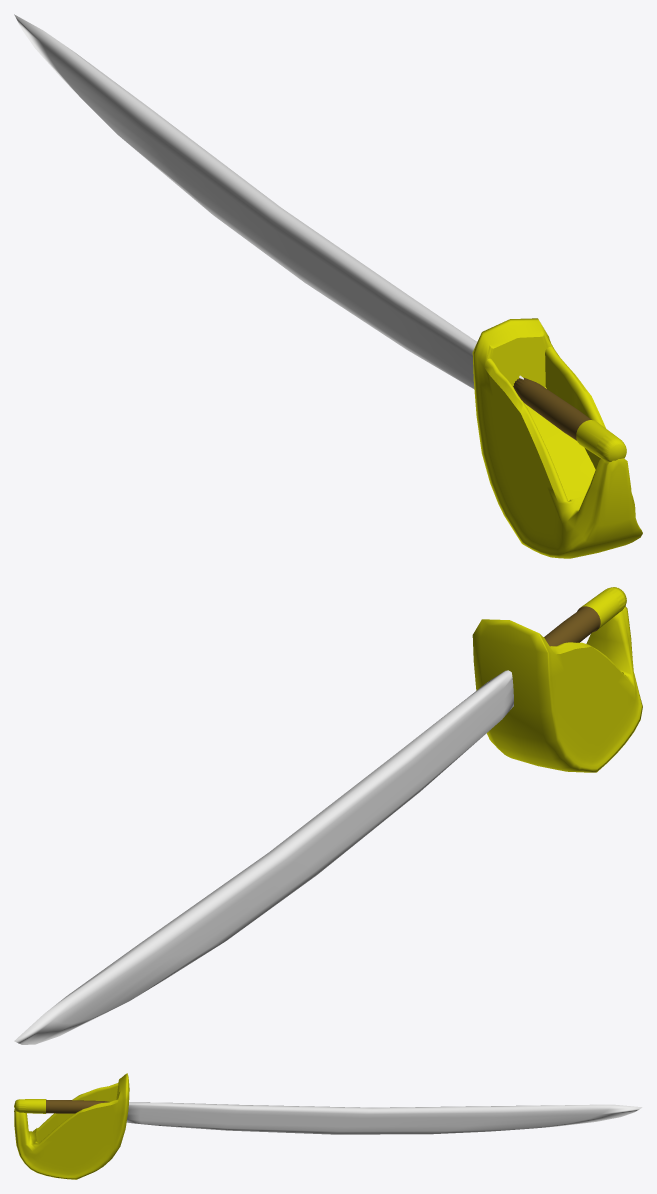
The model's file is espada.fbx.
3 renders of one model, top to bottom at view 1: azimuth 30°, elevation 25°; view 2: azimuth 150°, elevation 25°; view 3: azimuth 270°, elevation 25°, orthographic. The views are drawn at different scales.
Visible parts, largest first — view 1: pCube2, pCube1, pCylinder1; view 2: pCube1, pCube2, pCylinder1; view 3: pCube1, pCube2, pCylinder1.
Boxes of the visible parts, x1,y1,x2,y2 form: pCube2: [472, 318, 642, 558]; pCube1: [14, 14, 523, 388]; pCylinder1: [513, 377, 626, 461]; pCube1: [14, 670, 513, 1044]; pCube2: [472, 606, 642, 772]; pCylinder1: [544, 587, 626, 646]; pCube1: [126, 1102, 642, 1134]; pCube2: [14, 1073, 129, 1179]; pCylinder1: [14, 1099, 109, 1113].
Size of the model in its own units: 0.244 by 0.5662 by 3.43.
